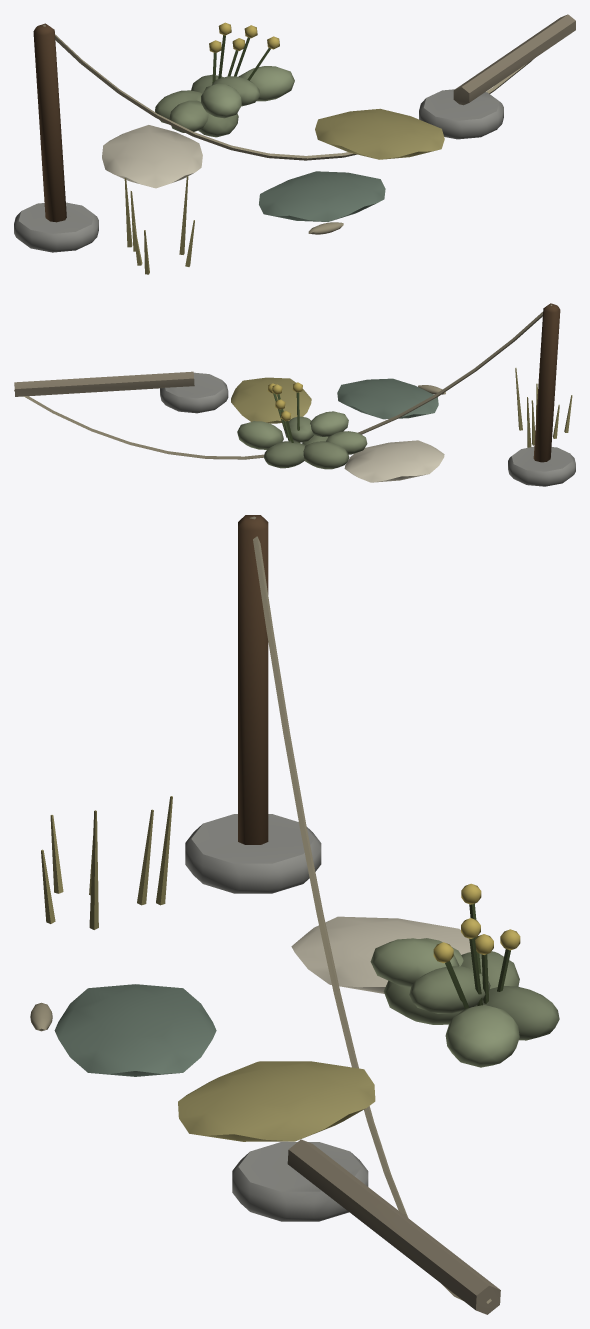
Rendered from laundry_line_c.glb.
The picture shows the model from 3 angles, top to bottom: view 1: azimuth 30°, elevation 25°; view 2: azimuth 150°, elevation 25°; view 3: azimuth 270°, elevation 25°; orthographic projection. The views are drawn at different scales.
Parts seen in each view (by area): view 1: Surface; view 2: Surface; view 3: Surface.
Boxes of the visible parts, box(x1,y1,x2,y2) form: Surface: box(14, 14, 575, 274); Surface: box(14, 303, 575, 486); Surface: box(30, 515, 559, 1314).
Bounding box in the file's own units: 4.92 × 1.9 × 2.25.
